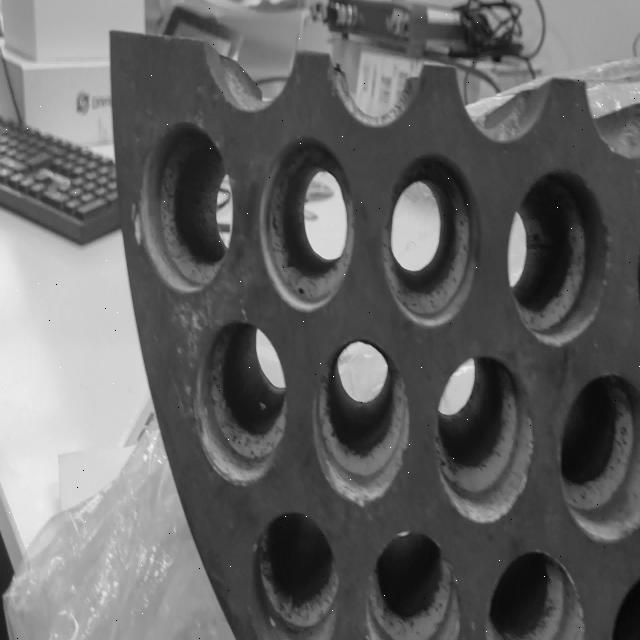Hole: (507, 168, 610, 346), (379, 152, 479, 328), (434, 353, 535, 525), (258, 136, 356, 312), (135, 120, 234, 294), (313, 337, 411, 505), (195, 319, 286, 486), (559, 371, 639, 544), (252, 509, 338, 638), (366, 530, 461, 640), (487, 549, 586, 639), (606, 571, 640, 639)
